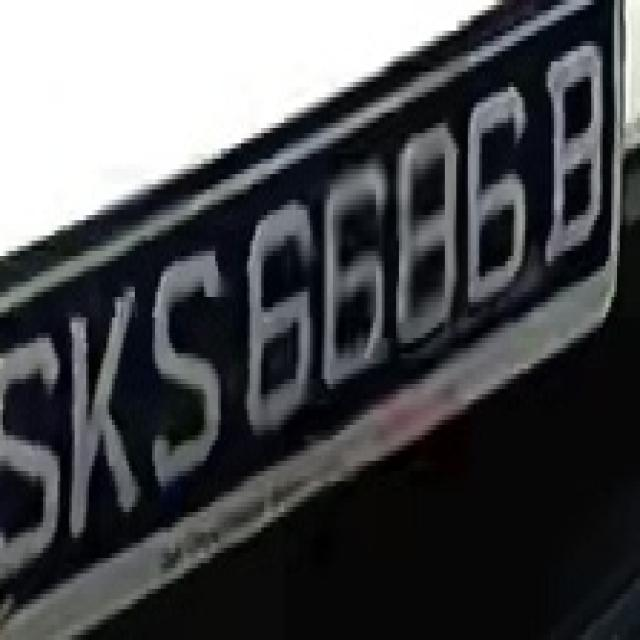6: (316, 158, 390, 410), (241, 194, 310, 446), (459, 87, 534, 307)
8: (382, 123, 459, 358)
B: (537, 41, 608, 271)
K: (63, 287, 141, 553)
S: (138, 236, 226, 476), (6, 307, 63, 594)
